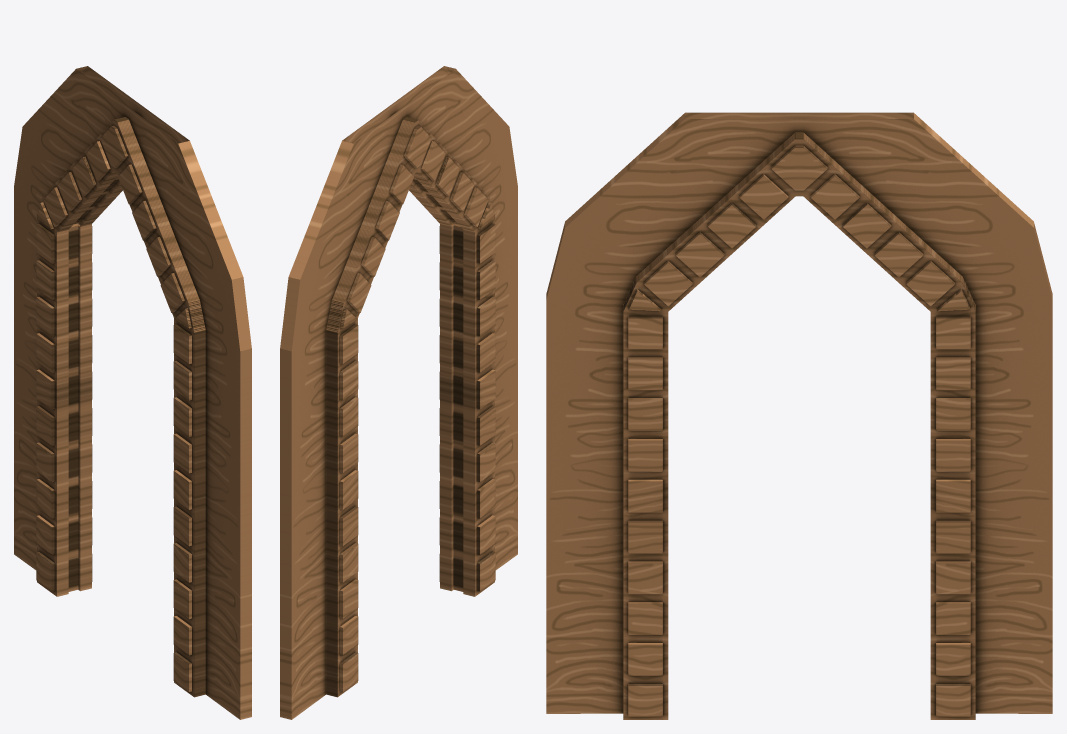
File: DoorFrame.fbx
3 renders of one model, left to right at view 1: azimuth 30°, elevation 25°; view 2: azimuth 150°, elevation 25°; view 3: azimuth 270°, elevation 25°, orthographic. The views are drawn at different scales.
Parts seen in each view (by area): view 1: DoorFrame; view 2: DoorFrame; view 3: DoorFrame.
Part boxes in pixels (x1,y1,x2,y2): DoorFrame: (14,66,251,719); DoorFrame: (280,66,517,719); DoorFrame: (546,112,1052,719).
Size of the model in its own units: 49.01 by 718 by 475.
